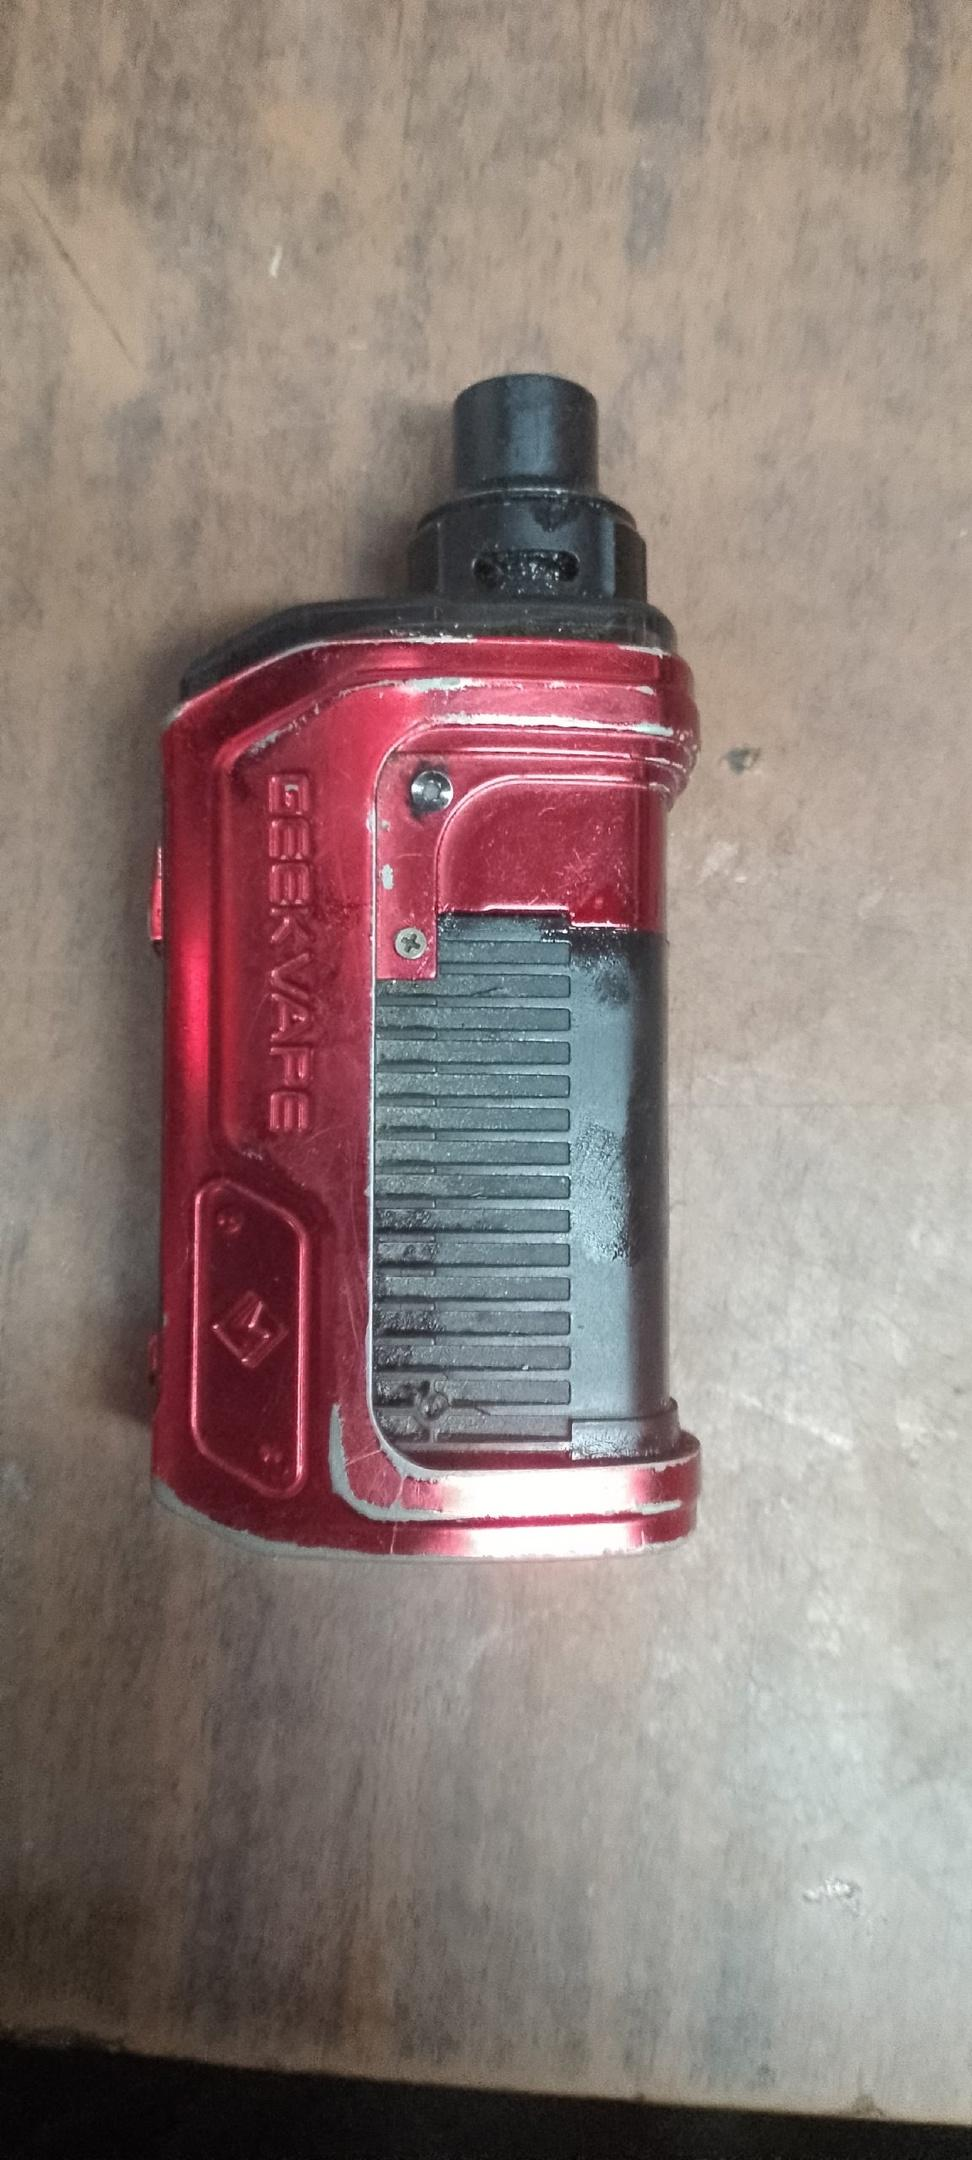Vape: (151, 375, 699, 1557)
